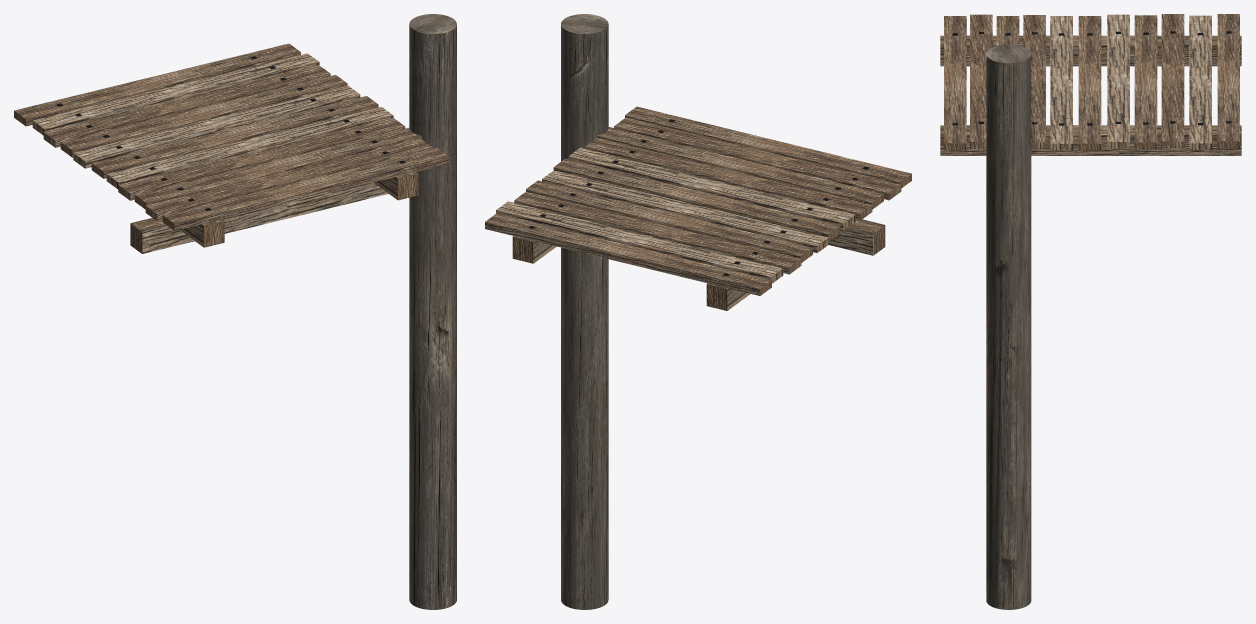
Rendered from plataformaDeMaderaCompleta.fbx.
3 renders of one model, left to right at view 1: azimuth 30°, elevation 25°; view 2: azimuth 150°, elevation 25°; view 3: azimuth 270°, elevation 25°, orthographic. The views are drawn at different scales.
Visible parts, largest first — view 1: moduloPuente4x4, columna, viga4x03; view 2: moduloPuente4x4, columna, viga4x03; view 3: moduloPuente4x4, columna.
Part boxes in pixels (bbox=[...]): moduloPuente4x4: bbox=[14, 43, 449, 247]; columna: bbox=[409, 14, 456, 609]; viga4x03: bbox=[130, 182, 388, 253]; moduloPuente4x4: bbox=[485, 106, 911, 310]; columna: bbox=[561, 14, 608, 609]; viga4x03: bbox=[829, 219, 885, 255]; moduloPuente4x4: bbox=[940, 14, 1241, 155]; columna: bbox=[986, 44, 1031, 609].
Size of the model in its own units: 462 by 800 by 400.
5 materials, 3 textured.
